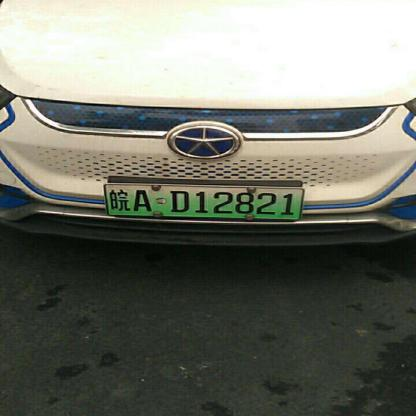lp: (104, 185, 304, 219)
